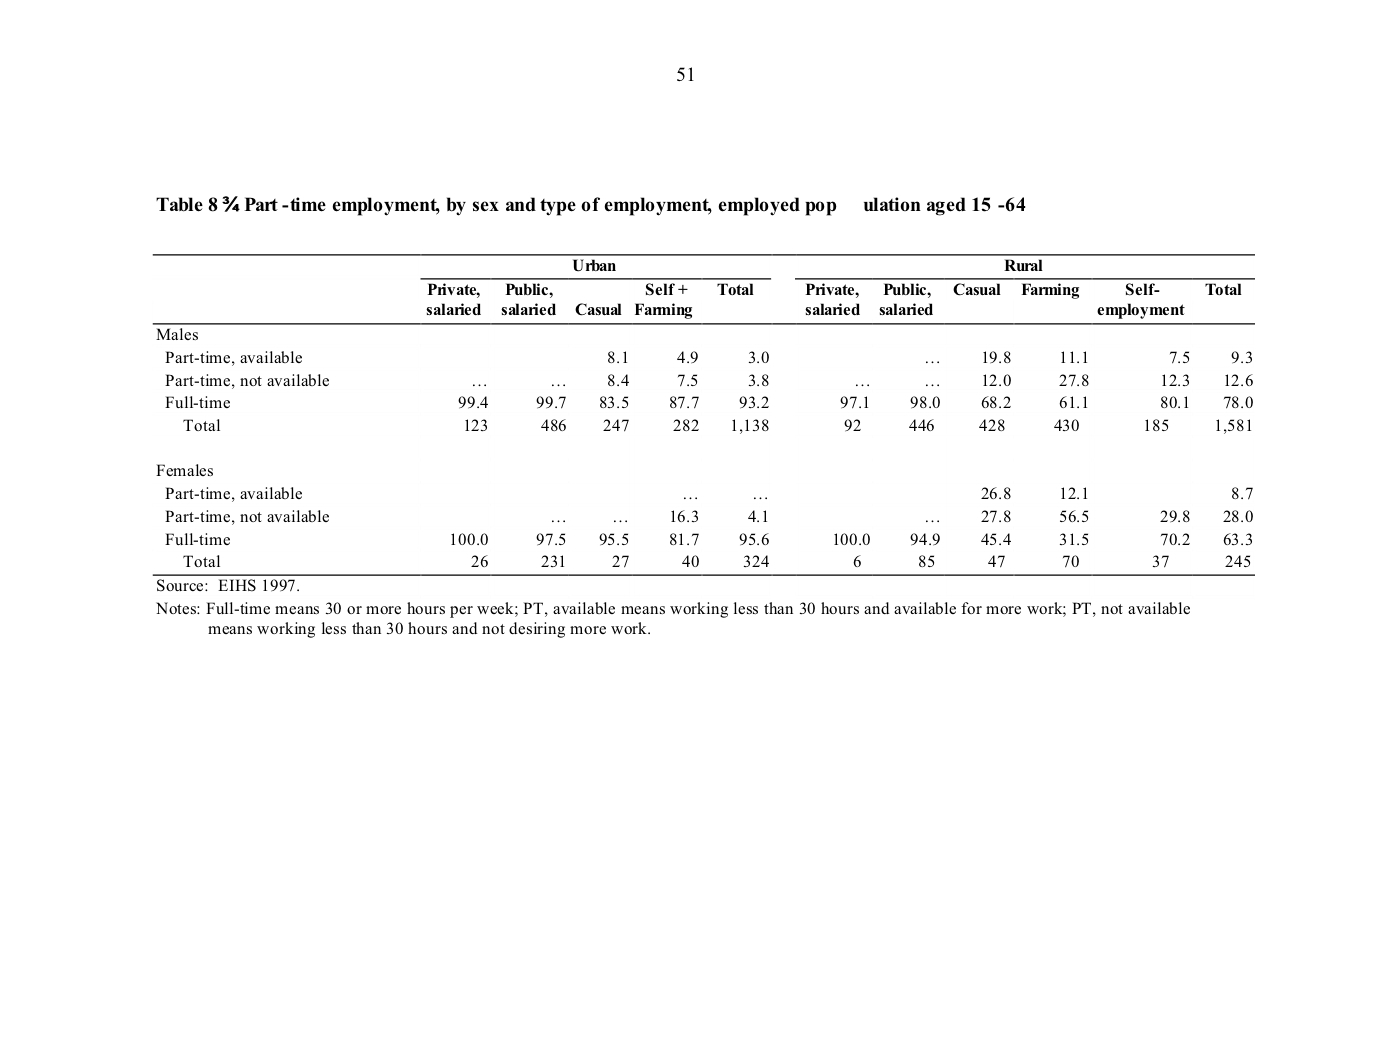Table: (152, 254, 1254, 575)
